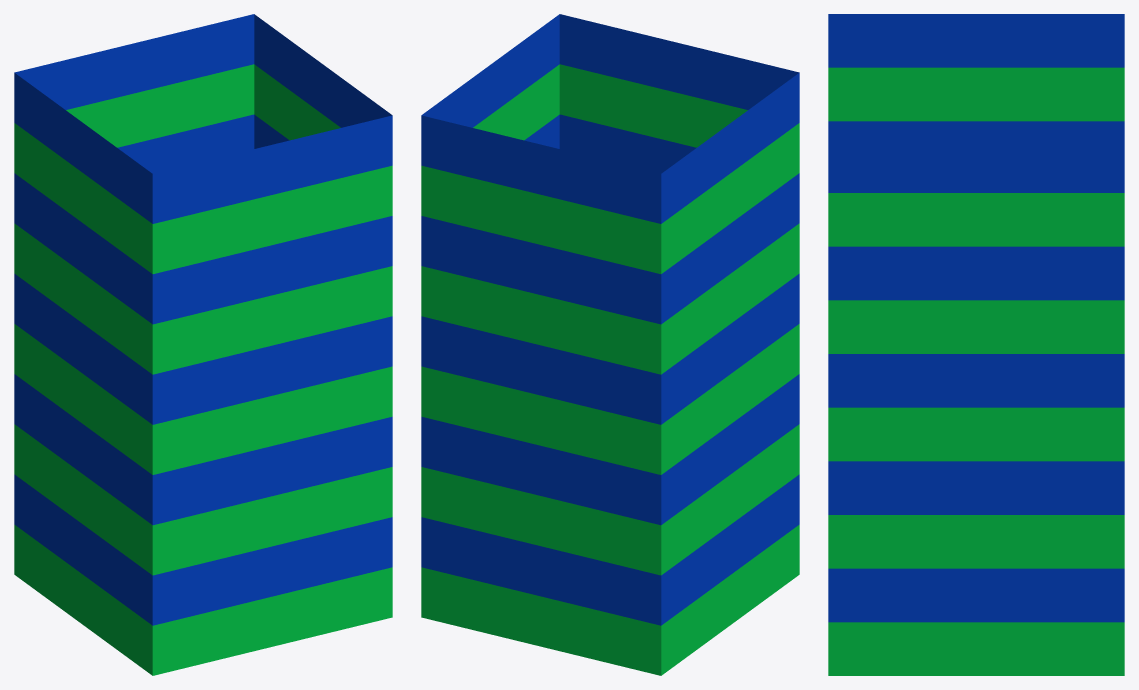
The model's file is Building_02.fbx.
3 renders of one model, left to right at view 1: azimuth 30°, elevation 25°; view 2: azimuth 150°, elevation 25°; view 3: azimuth 270°, elevation 25°, orthographic. The views are drawn at different scales.
Parts seen in each view (by area): view 1: Building_02; view 2: Building_02; view 3: Building_02.
Boxes of the visible parts, box(x1,y1,x2,y2) form: Building_02: box(14, 14, 392, 675); Building_02: box(421, 14, 799, 675); Building_02: box(828, 14, 1124, 675).
Bounding box in the file's own units: 2500 × 5000 × 2500.
